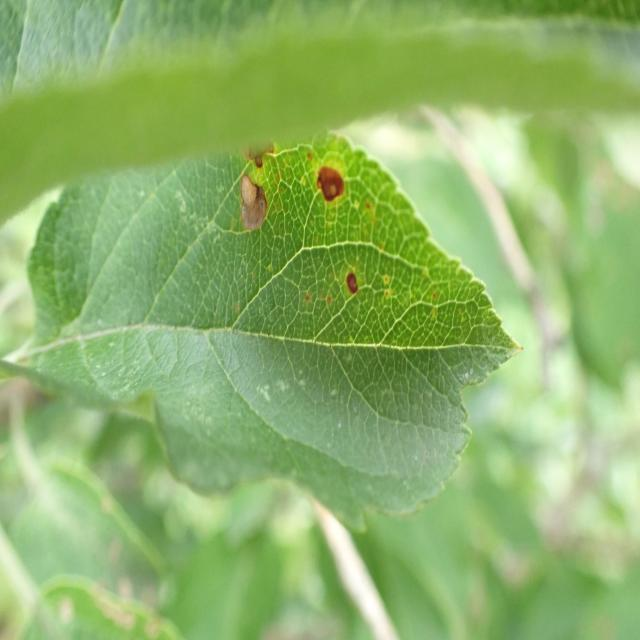Black Rot: (221, 182, 288, 237), (309, 161, 356, 223), (230, 134, 294, 172), (343, 261, 365, 324)
